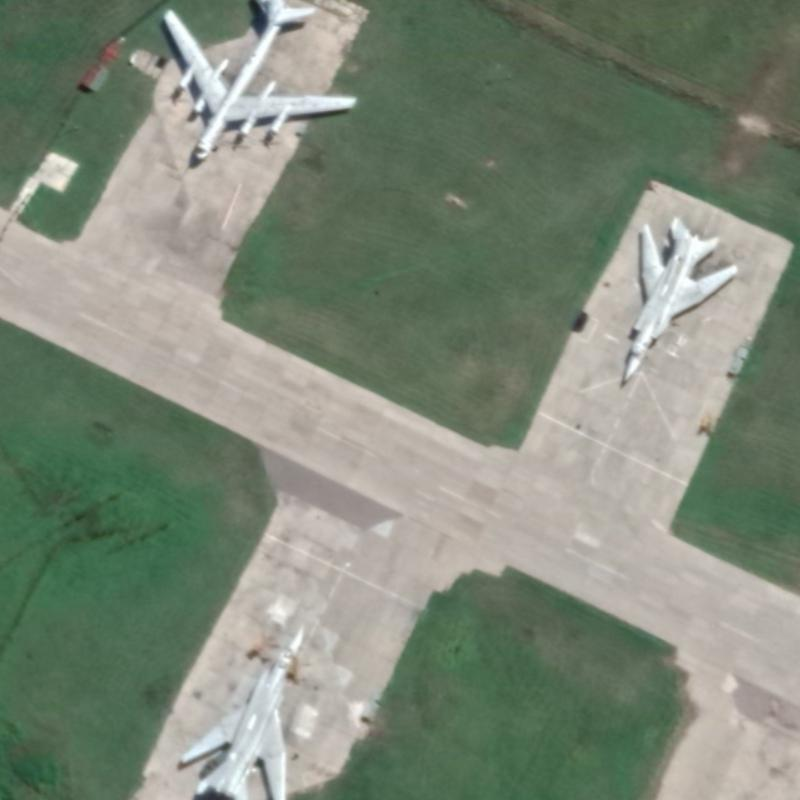A12: (177, 625, 307, 799), (618, 213, 740, 384)
A17: (159, 0, 359, 162)
